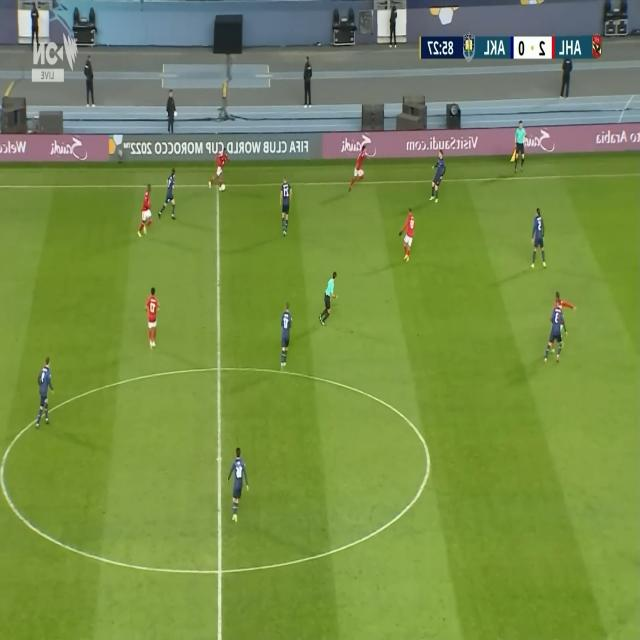Ball: (221, 181, 226, 192)
Player: (225, 444, 249, 526), (550, 290, 576, 352), (34, 356, 54, 432), (543, 304, 566, 367), (206, 147, 233, 193), (528, 209, 548, 271), (276, 300, 292, 372), (144, 288, 162, 351), (158, 167, 177, 222), (135, 183, 153, 240), (398, 206, 415, 264), (348, 146, 369, 192), (278, 178, 292, 235), (430, 150, 444, 204)
Ref: (317, 269, 340, 326), (512, 120, 528, 174)
